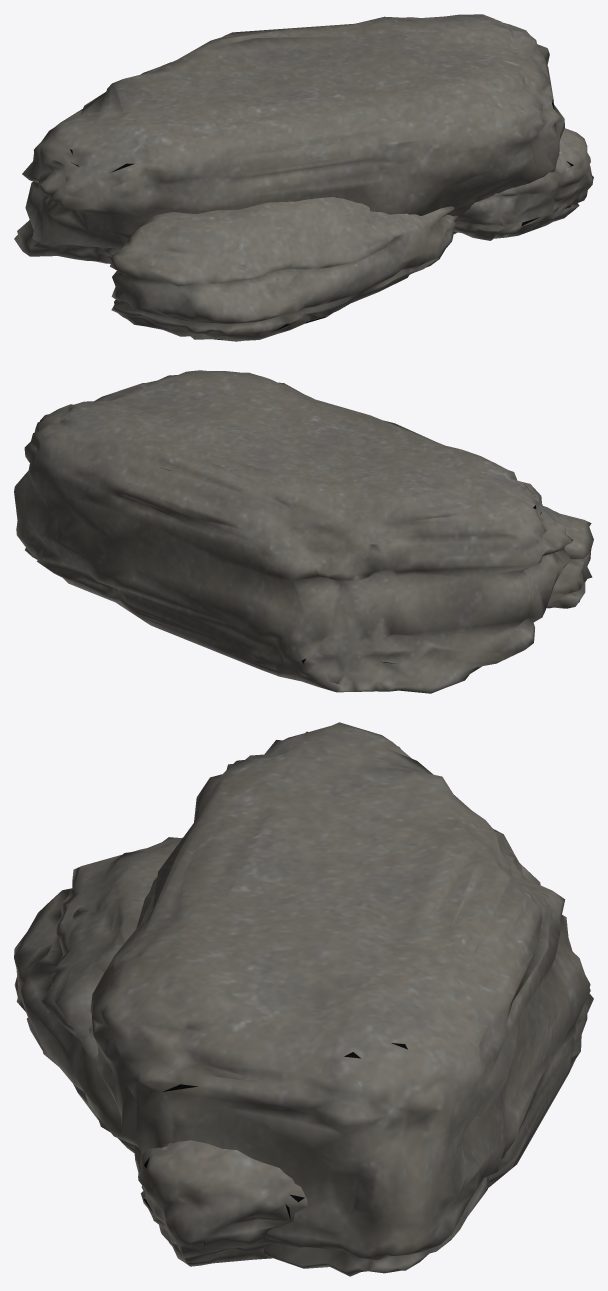
Rendered from river_ledge_LOD0.fbx.
3 views of the same model, one above another, from view 1: azimuth 30°, elevation 25°; view 2: azimuth 150°, elevation 25°; view 3: azimuth 270°, elevation 25° (orthographic). The views are drawn at different scales.
Parts seen in each view (by area): view 1: river_ledge_LOD0.001; view 2: river_ledge_LOD0.001; view 3: river_ledge_LOD0.001.
Part boxes in pixels (bbox=[...]): river_ledge_LOD0.001: bbox=[14, 14, 593, 341]; river_ledge_LOD0.001: bbox=[14, 370, 593, 693]; river_ledge_LOD0.001: bbox=[14, 722, 593, 1276].
Size of the model in its own units: 600 by 180 by 400.
